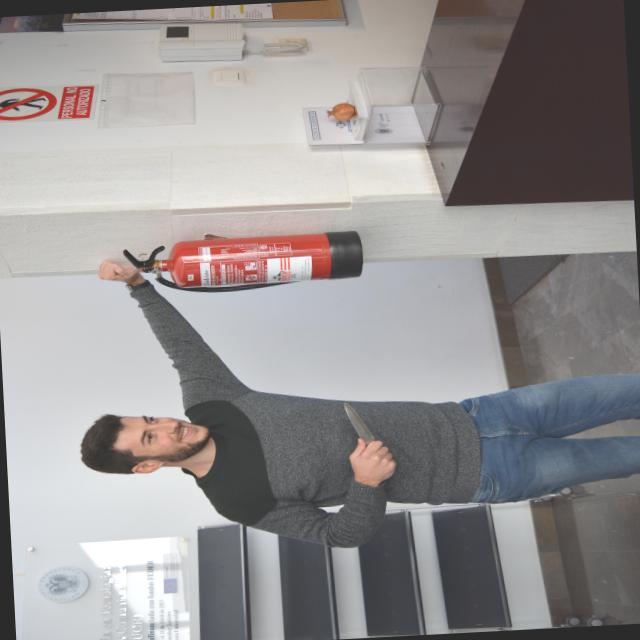knife: (339, 398, 382, 453)
